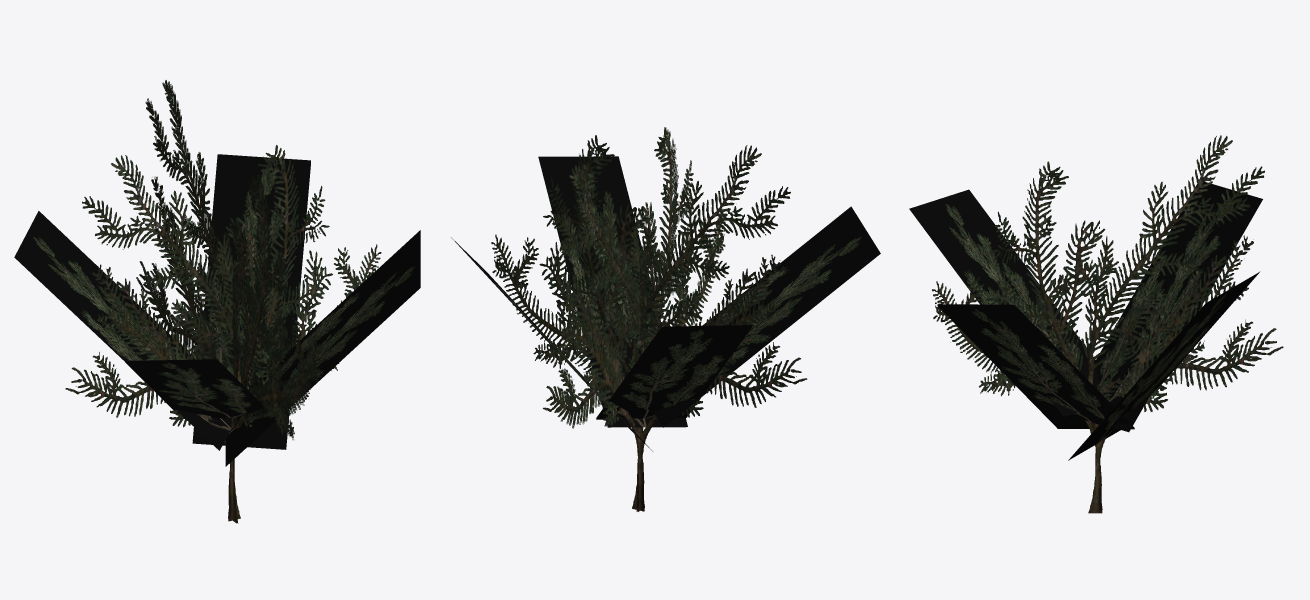
File: mtns_shrb_evergreen_a3_l1.fbx
The picture shows the model from 3 angles, left to right: view 1: azimuth 30°, elevation 25°; view 2: azimuth 150°, elevation 25°; view 3: azimuth 270°, elevation 25°; orthographic projection. The views are drawn at different scales.
Visible parts, largest first — view 1: mesh_node; view 2: mesh_node; view 3: mesh_node.
Part boxes in pixels (x1,y1,x2,y2): mesh_node: (14, 80, 420, 523); mesh_node: (451, 127, 880, 511); mesh_node: (909, 135, 1283, 513).
Bounding box in the file's own units: 2.04 × 2.51 × 2.12.
